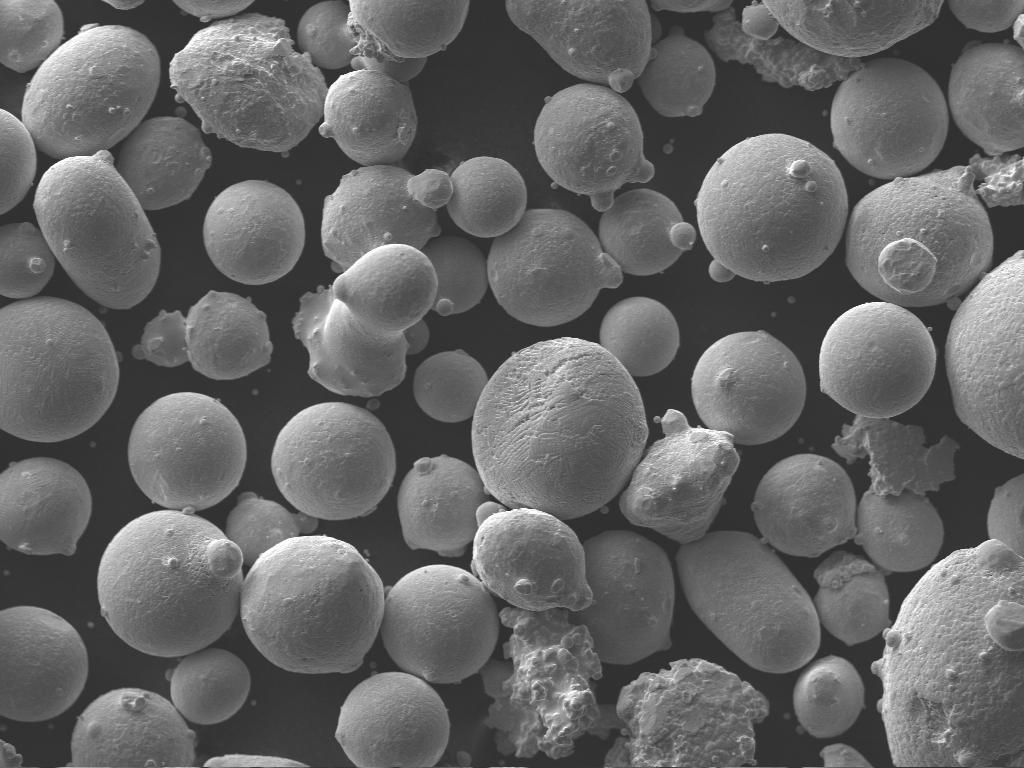Powder: (872, 540, 1024, 766), (472, 338, 648, 520), (696, 134, 848, 282), (292, 244, 438, 396), (98, 508, 244, 657), (170, 14, 328, 151), (846, 166, 994, 306), (676, 532, 820, 673), (34, 150, 160, 309), (240, 536, 384, 674), (588, 658, 768, 766), (22, 24, 160, 158), (482, 608, 602, 758), (0, 296, 120, 442), (946, 250, 1024, 457), (620, 410, 740, 543), (486, 210, 622, 326), (534, 84, 654, 211), (272, 402, 396, 520), (380, 564, 500, 684), (830, 58, 948, 178), (128, 392, 246, 510), (570, 530, 674, 663), (322, 164, 454, 267), (506, 0, 652, 93), (820, 302, 936, 417), (472, 502, 592, 611), (704, 8, 862, 89), (692, 332, 806, 444), (132, 290, 274, 379), (742, 0, 942, 57), (318, 56, 418, 166), (336, 672, 450, 766), (752, 454, 856, 557), (204, 180, 304, 284), (0, 606, 88, 722), (832, 416, 958, 496), (348, 0, 468, 82), (72, 688, 196, 766), (398, 454, 488, 556), (116, 116, 212, 210), (0, 458, 92, 555), (598, 188, 696, 275), (948, 44, 1024, 154), (854, 490, 944, 572), (814, 550, 890, 645), (224, 492, 318, 565), (446, 156, 526, 238), (638, 30, 714, 115), (600, 296, 680, 376), (170, 648, 250, 724), (794, 656, 864, 737), (414, 350, 488, 422), (422, 236, 488, 316), (0, 0, 64, 72), (0, 224, 56, 298), (296, 0, 356, 69), (0, 108, 36, 213), (968, 154, 1024, 207), (988, 474, 1024, 555), (948, 0, 1024, 32), (174, 1, 254, 22), (204, 754, 306, 768), (820, 744, 872, 768), (650, 1, 732, 13), (404, 320, 430, 353)
